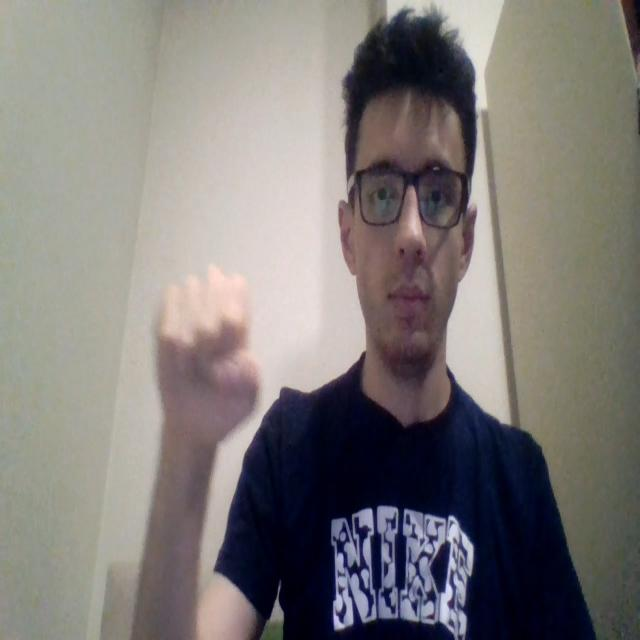yes: (154, 263, 262, 449)
